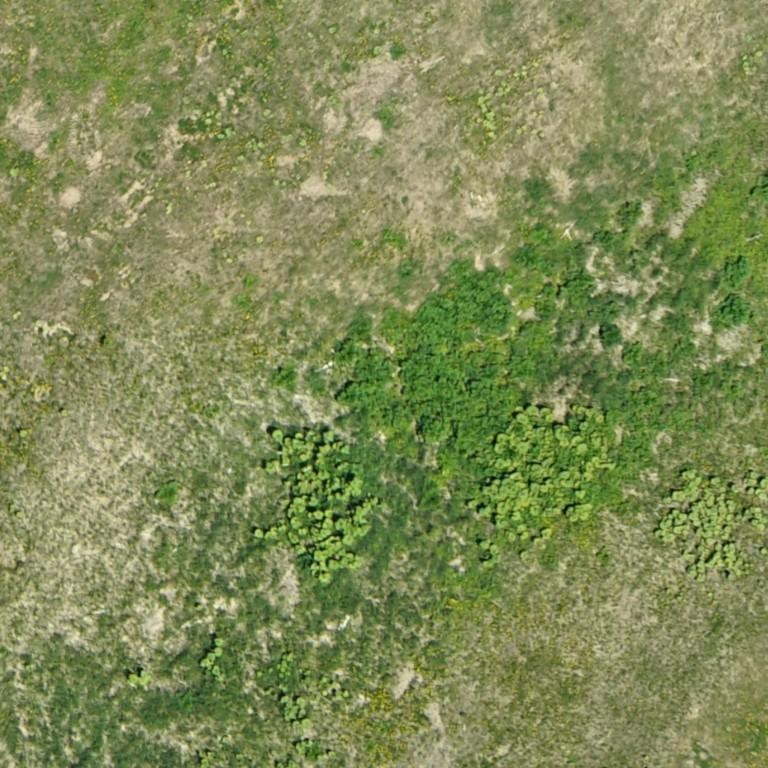hogweed: (334, 267, 515, 453), (508, 285, 554, 373), (558, 268, 595, 302), (718, 295, 754, 325), (723, 257, 750, 285), (599, 322, 622, 346), (621, 201, 642, 223), (623, 344, 643, 363), (594, 231, 614, 245)
